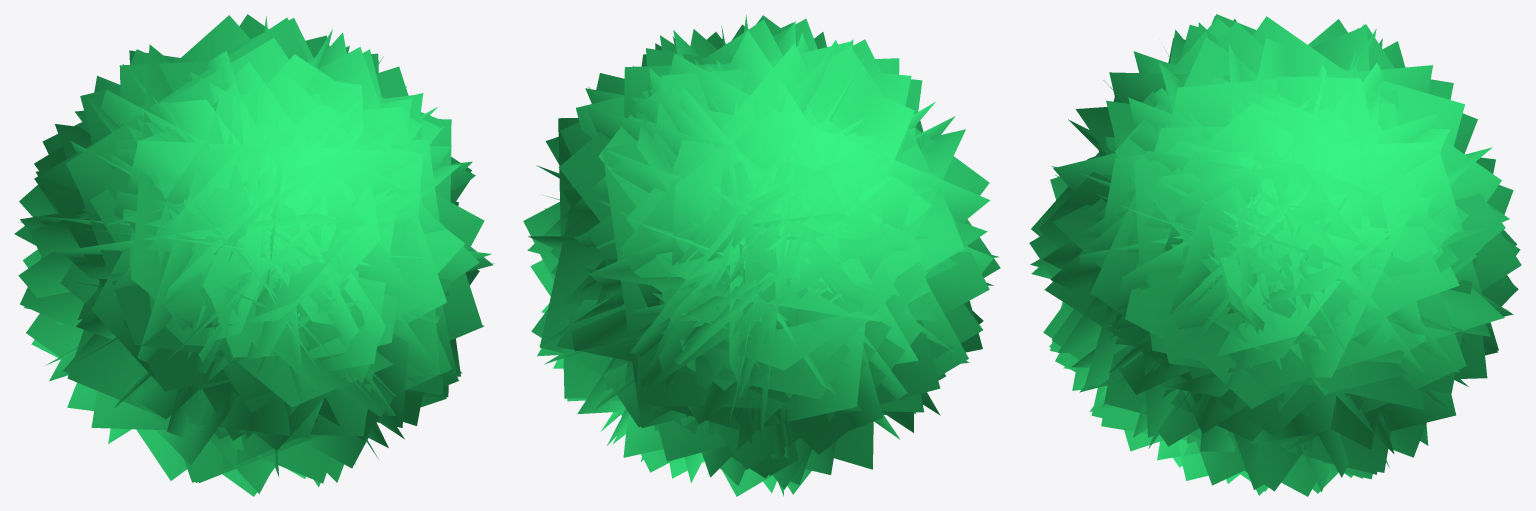
The model's file is Bush03.fbx.
3 renders of one model, left to right at view 1: azimuth 30°, elevation 25°; view 2: azimuth 150°, elevation 25°; view 3: azimuth 270°, elevation 25°, orthographic. The views are drawn at different scales.
Visible parts, largest first — view 1: Plane.108; view 2: Plane.108; view 3: Plane.108.
Boxes of the visible parts, bbox=[...] form: Plane.108: bbox=[14, 14, 494, 496]; Plane.108: bbox=[523, 14, 1000, 496]; Plane.108: bbox=[1029, 14, 1521, 496].
Bounding box in the file's own units: 2297 × 2310 × 2323.
